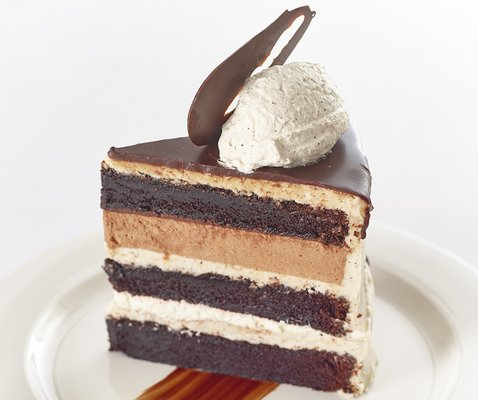sandwich: (186, 6, 315, 151)
